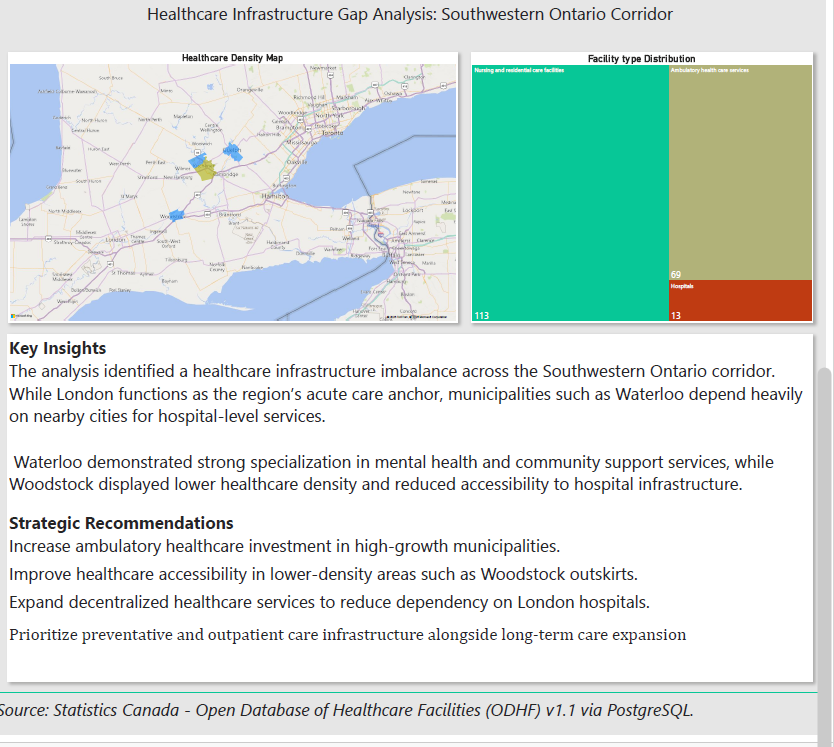

What the dashboard file says about the page in this screenshot:
{"tool":"powerbi","page":{"name":"Report2","canvas":[2600,2300],"ordinal":1},"visuals":[{"type":"shape","box":[43.5,165.2,1404.3,843.5],"z":0},{"type":"shape","box":[1491.3,165.2,1069.6,843.5],"z":1000},{"type":"shape","box":[43.3,1046.7,2516.7,1086.7],"z":2000},{"type":"textbox","box":[40,1046.7,2520,1086.7],"z":3000},{"type":"textbox","box":[0,0,2600,117.4],"z":4000},{"type":"filledMap","title":"Healthcare Density Map","fields":{"Category":["public odhf_facility.city"],"Y":["Sum(public odhf_facility.latitude)"]},"box":[43.5,165.2,1404.3,843.5],"z":5000},{"type":"treemap","title":"Facility type Distribution","fields":{"Values":["Sum(public facility_mix_stat.count)"],"Group":["public facility_mix_stat.odhf_facility_type"]},"box":[1491.3,165.2,1069.6,843.5],"z":6000},{"type":"shape","box":[0,2110,2600,120],"z":7000},{"type":"textbox","box":[0,2180,2600,96.7],"z":8000}]}

Visuals, with their boxes in screenshot pixels (x1, y1, x2, y2), scaled from the page's 2600x2300 canvas onto the 834x747 screenshot:
shape: box=[14, 54, 464, 328]
shape: box=[478, 54, 821, 328]
shape: box=[14, 340, 821, 693]
textbox: box=[13, 340, 821, 693]
textbox: box=[0, 0, 833, 38]
"Healthcare Density Map" filledMap: box=[14, 54, 464, 328]
"Facility type Distribution" treemap: box=[478, 54, 821, 328]
shape: box=[0, 685, 833, 724]
textbox: box=[0, 708, 833, 739]
